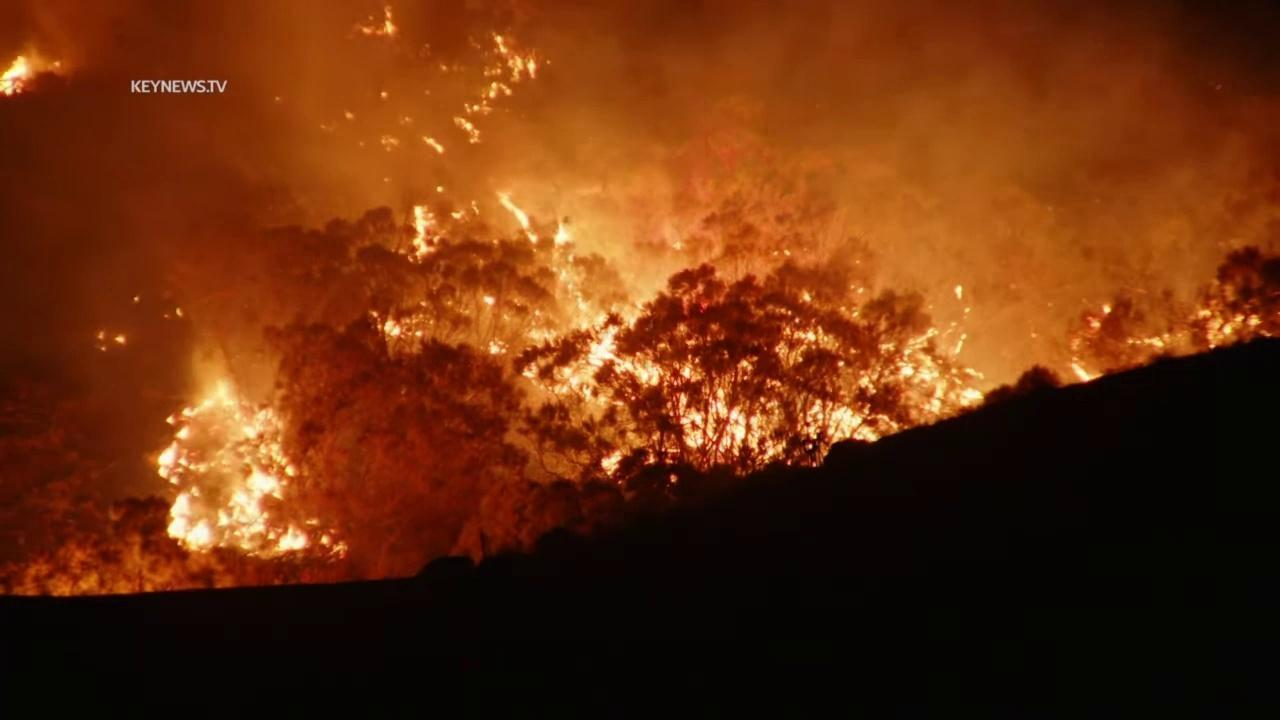fire: (519, 216, 994, 488), (148, 379, 350, 564), (1197, 307, 1274, 351), (485, 29, 542, 84), (393, 201, 441, 266), (496, 189, 543, 253), (0, 39, 38, 103), (465, 81, 515, 116), (370, 309, 424, 337), (358, 3, 398, 39), (1119, 328, 1172, 348), (449, 114, 482, 146), (476, 333, 512, 361), (1067, 357, 1104, 384), (422, 134, 445, 157), (1084, 315, 1104, 330), (449, 208, 466, 223), (479, 293, 497, 306), (112, 332, 127, 346), (343, 109, 356, 122), (173, 306, 186, 318), (95, 328, 105, 343), (1100, 303, 1113, 314), (378, 91, 391, 100), (131, 294, 142, 303), (436, 185, 446, 193), (99, 346, 107, 352)
smoke: (0, 0, 1280, 554)
